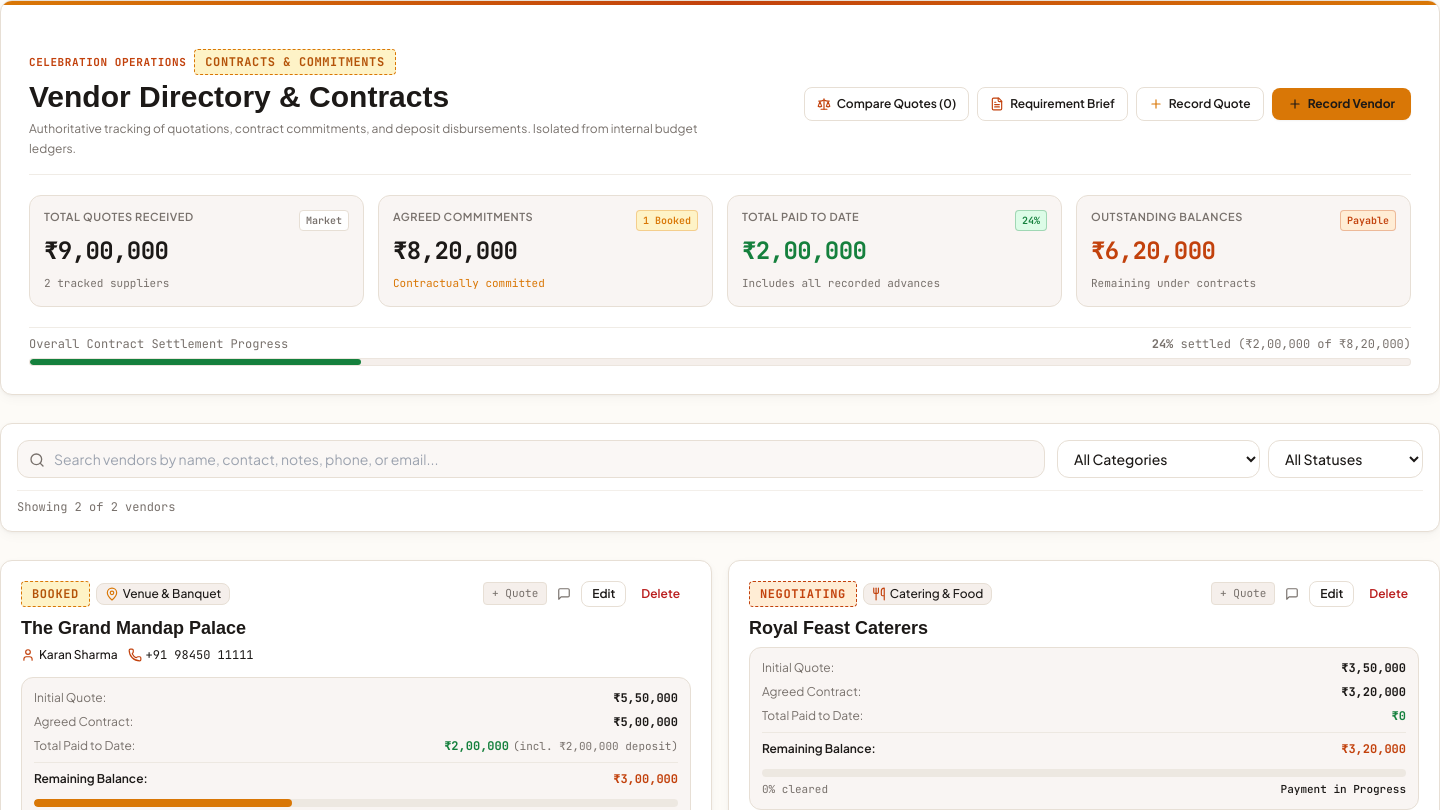
it: VendorsTab Component › opens vendor creation modal when clicking Record Vendor
Click the button "Record Vendor". click: x=1341, y=104
box: [1272,88,1411,120]
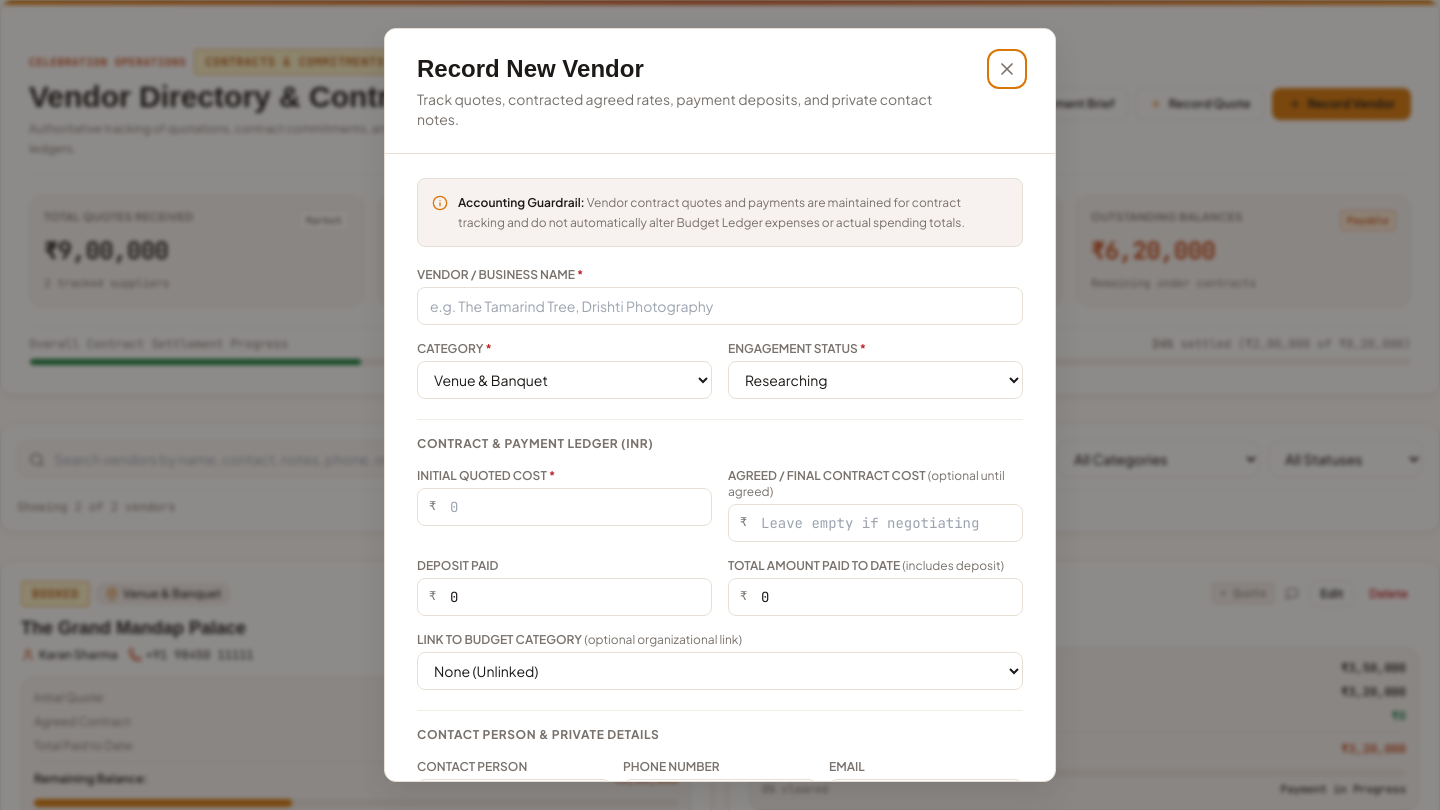
expect the heading "Record New Vendor" is shown: met, box [417,55,644,82]
expect the field labelled "Vendor / Business Name *" is shown: met, box [417,287,1023,325]
